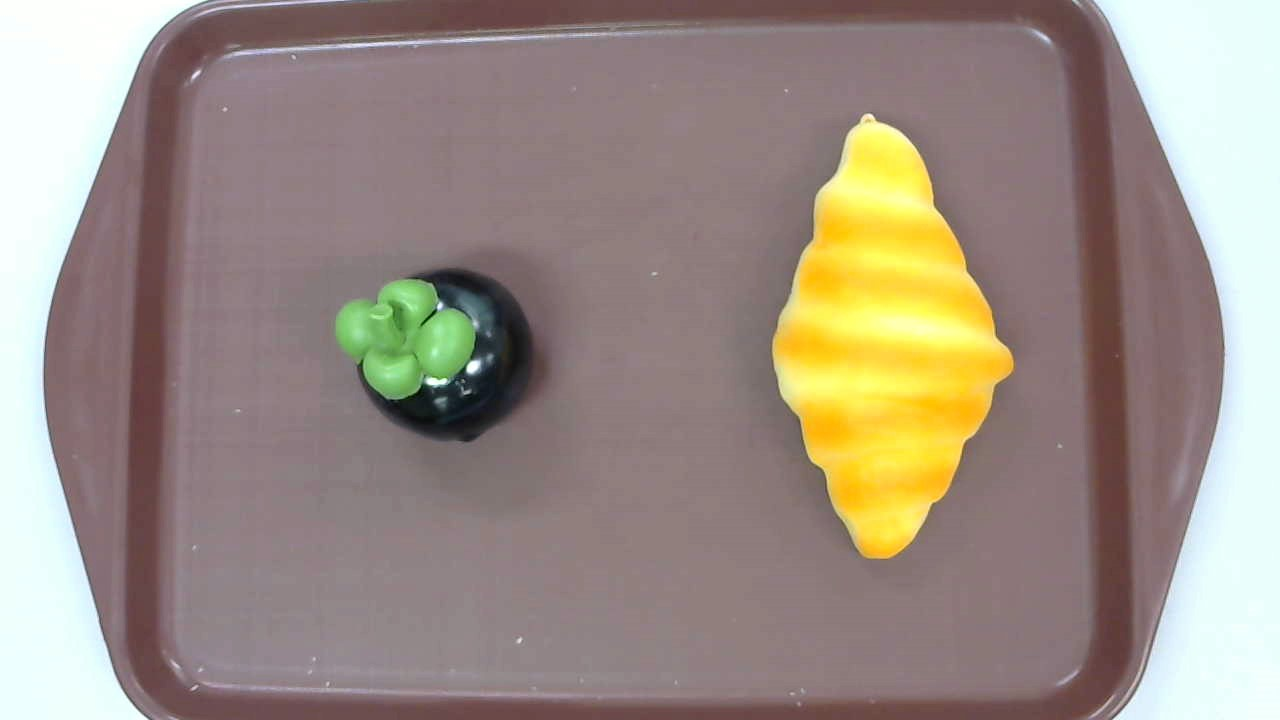croissant: (772, 114, 1012, 557)
mangosteen: (334, 269, 535, 443)
